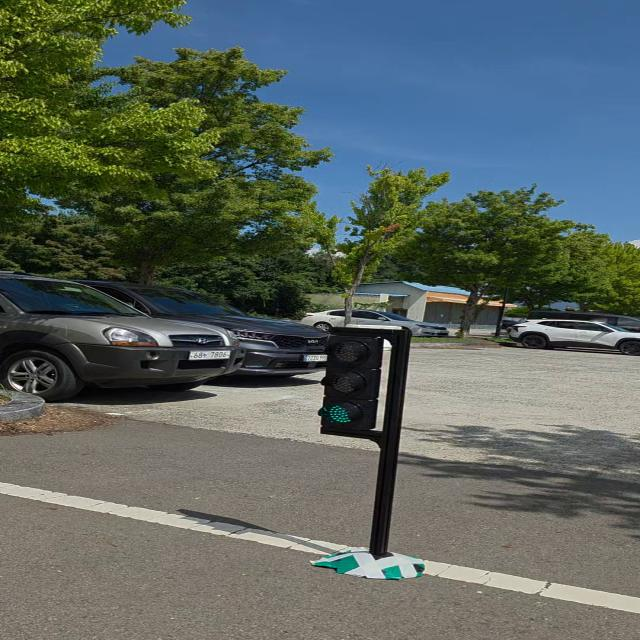green: (320, 334, 384, 435)
